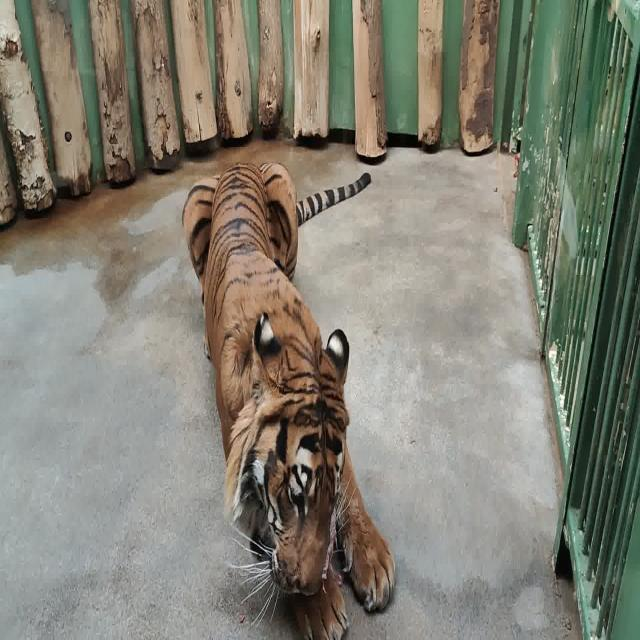tiger: (182, 160, 395, 640)
